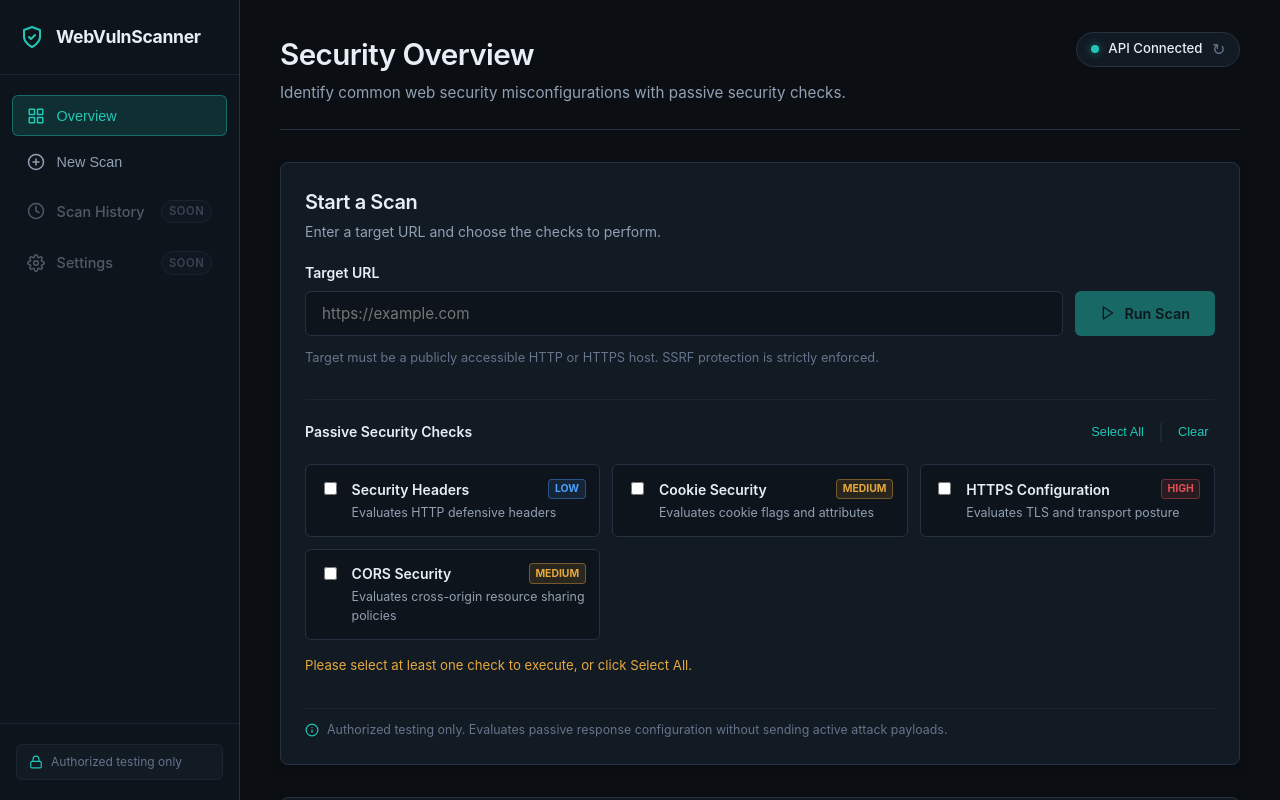
Test: WebVulnScanner UI Integration › 11. displays user-safe error banner when scan API fails
Check: the text "Security Headers" is shown, box [352,479,469,500]
In the field with test id "target-url-input": (684, 313) [305,291,1063,336], type "http://127.0.0.1"
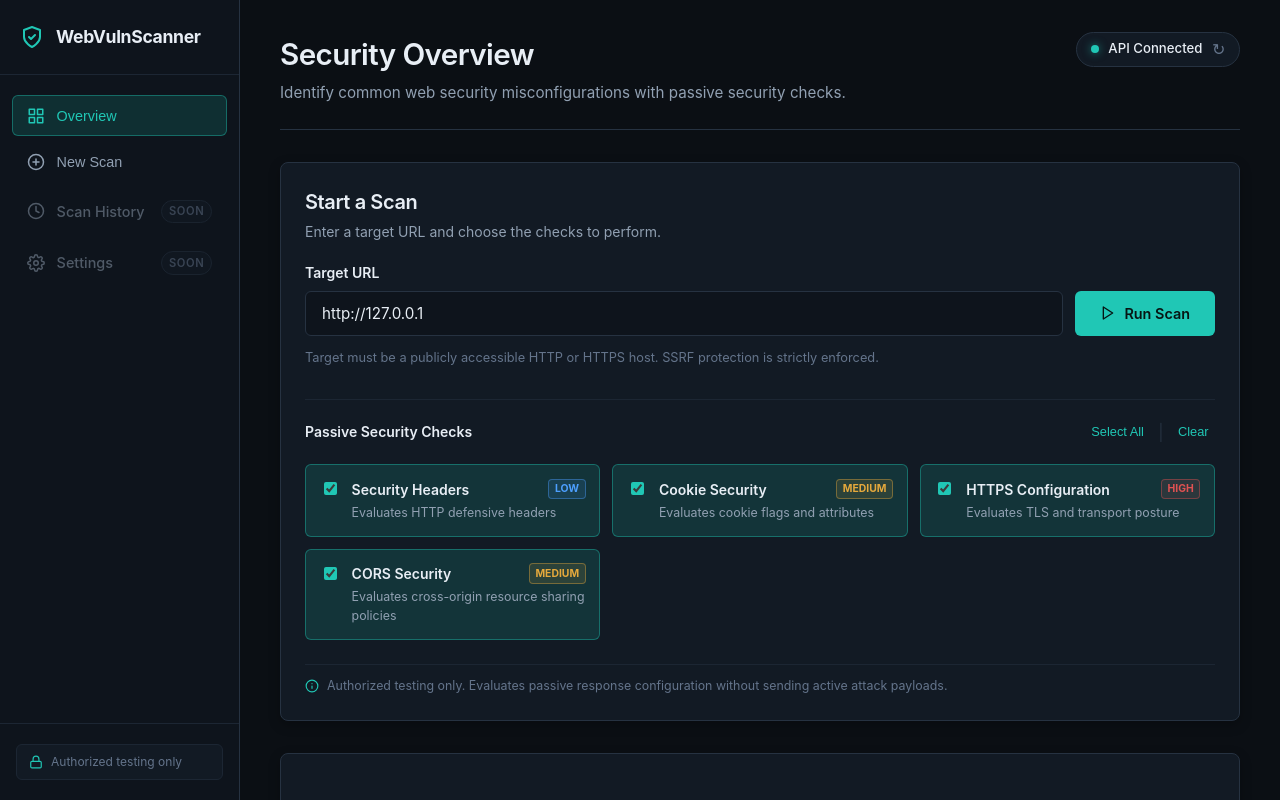
Click the button with test id "run-scan-button": (1145, 313) [1075,291,1215,336]
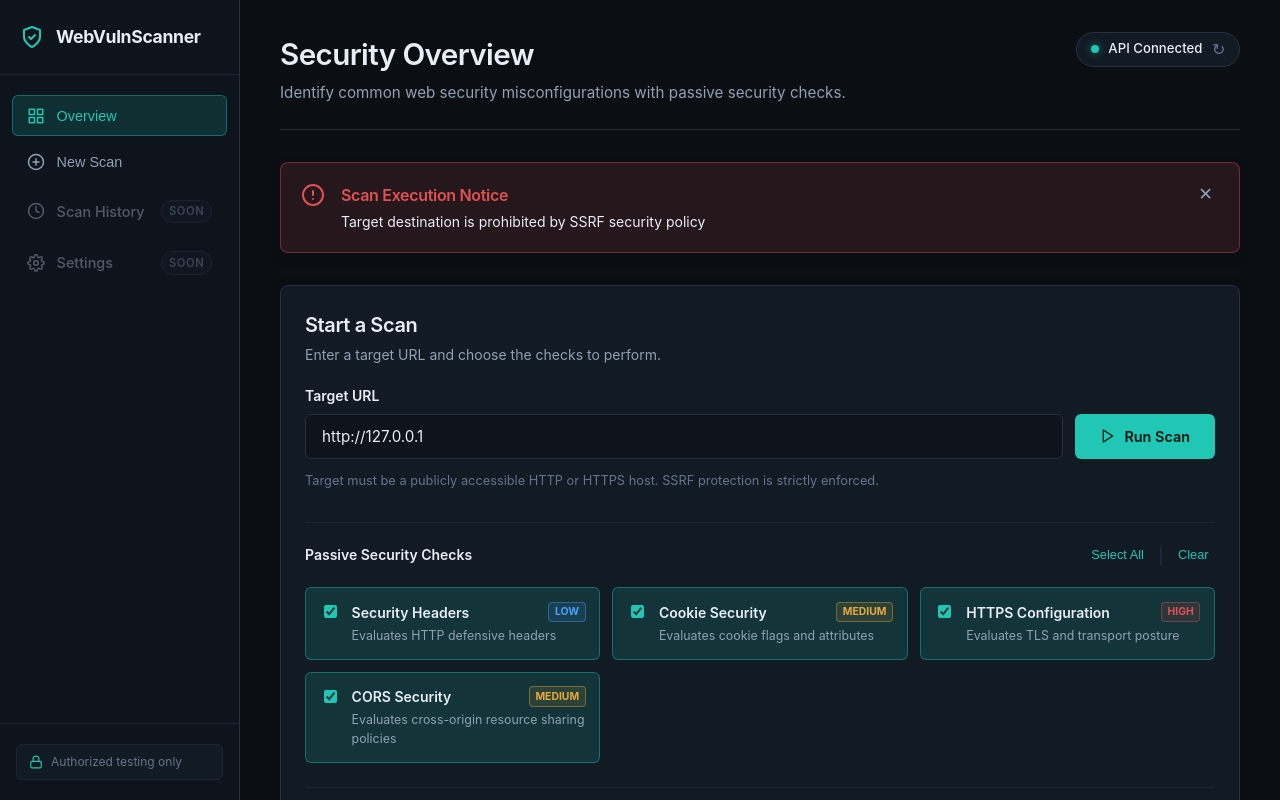
Check: the message with test id "scan-error-banner" is shown, box [280,162,1240,253]
Check: the text with test id "scan-error-message" reads "Target destination is prohibited by SSRF security policy", box [341,213,705,230]
// Dismiss error
Click the button with test id "dismiss-error-button": (1206, 194) [1192,183,1219,206]
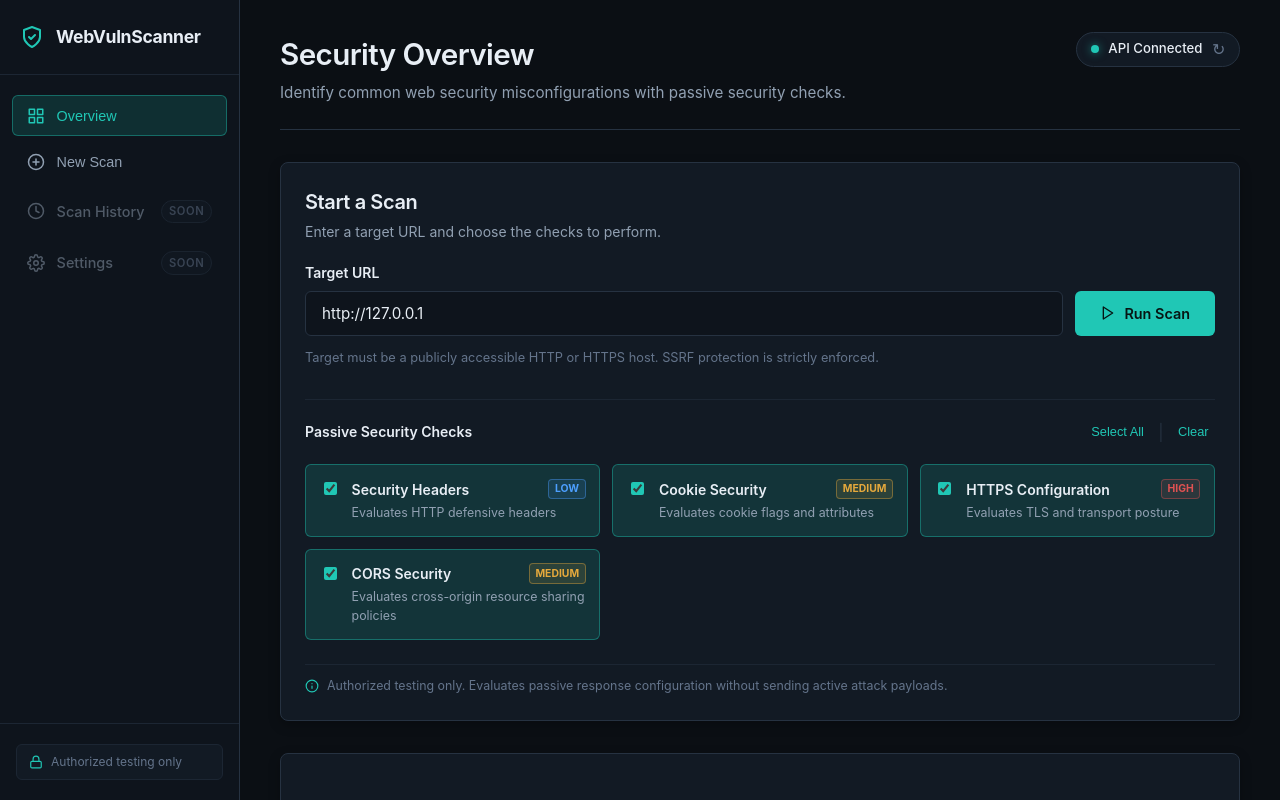
Check: the message with test id "scan-error-banner" is gone
